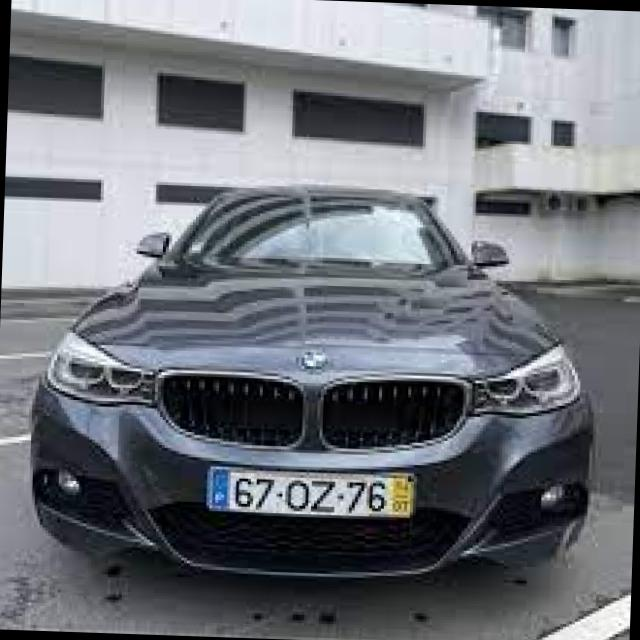portuguese-license-plates: (200, 461, 421, 526)
